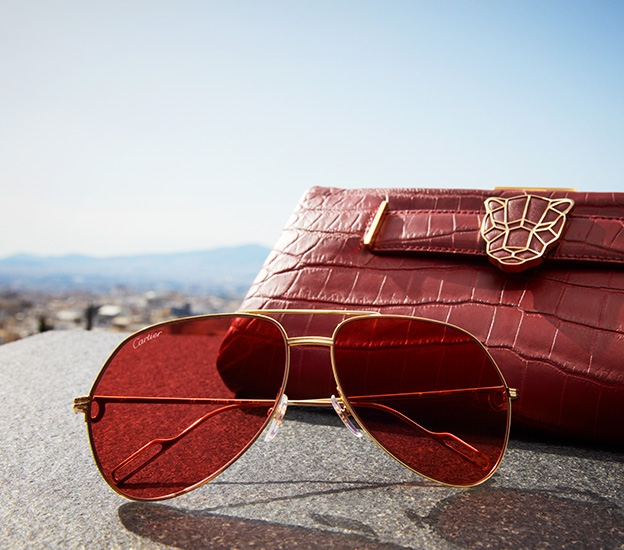sunglasses: (61, 305, 560, 505)
